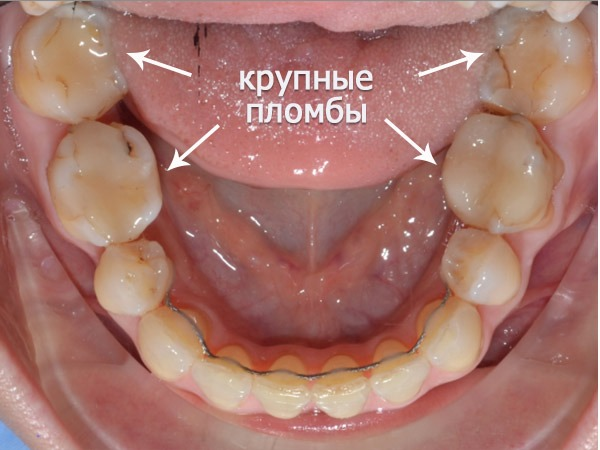LL1BC_healthy: (442, 230, 521, 298)
LL1M_decay: (493, 28, 589, 113)
LL2BC_decay: (442, 117, 553, 228)
LLCI_decay: (313, 358, 366, 417)
LLC_decay: (417, 299, 480, 367)
LLLI_decay: (371, 343, 426, 401)
LR1BC_healthy: (96, 240, 168, 312)
LR1M_decay: (19, 14, 123, 118)
LR2BC_decay: (49, 123, 158, 235)
LRCI_decay: (260, 358, 310, 417)
LRC_decay: (141, 306, 207, 378)
LRLI_decay: (208, 347, 257, 410)
